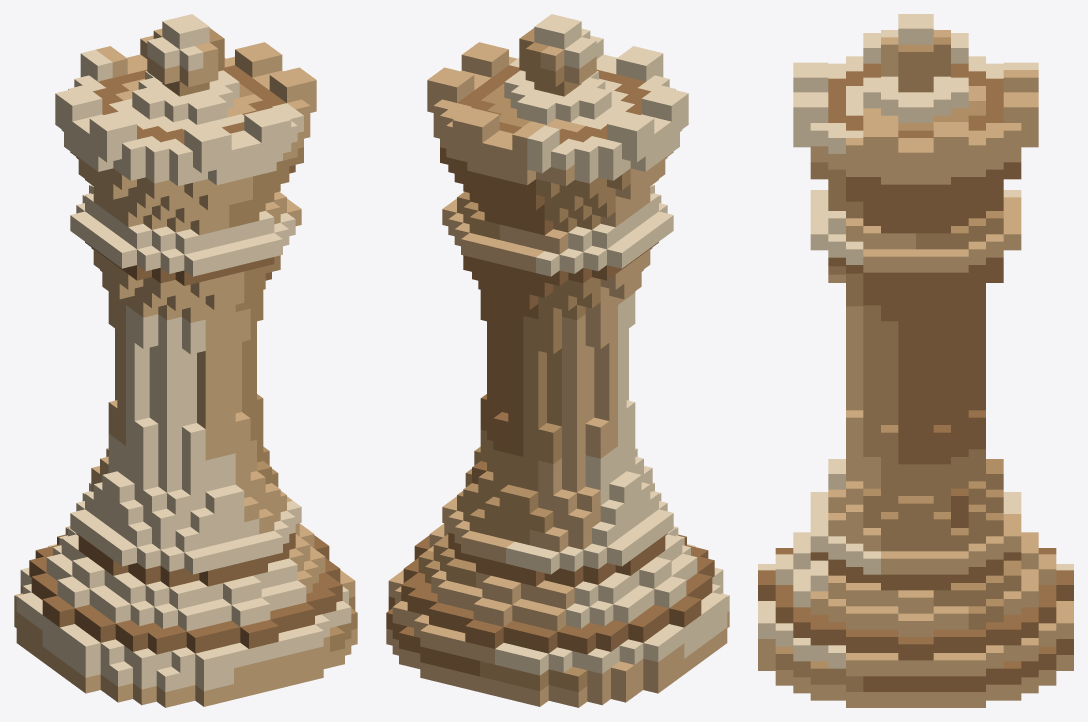
File: queen.obj
3 views of the same model, side by side, from view 1: azimuth 30°, elevation 25°; view 2: azimuth 150°, elevation 25°; view 3: azimuth 270°, elevation 25° (orthographic).
Visible parts, largest first — view 1: queen; view 2: queen; view 3: queen.
Boxes of the visible parts, x1,y1,x2,y2 form: queen: (14, 14, 357, 707); queen: (386, 14, 729, 707); queen: (758, 14, 1073, 707).
Bounding box in the file's own units: 0.378 × 0.819 × 0.378.
Materials: 1 (1 with a texture image).
